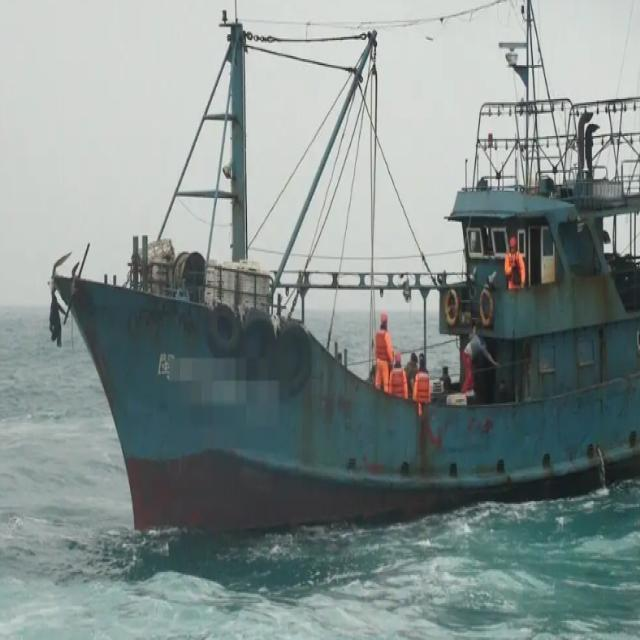fishing boat: (51, 3, 640, 529)
